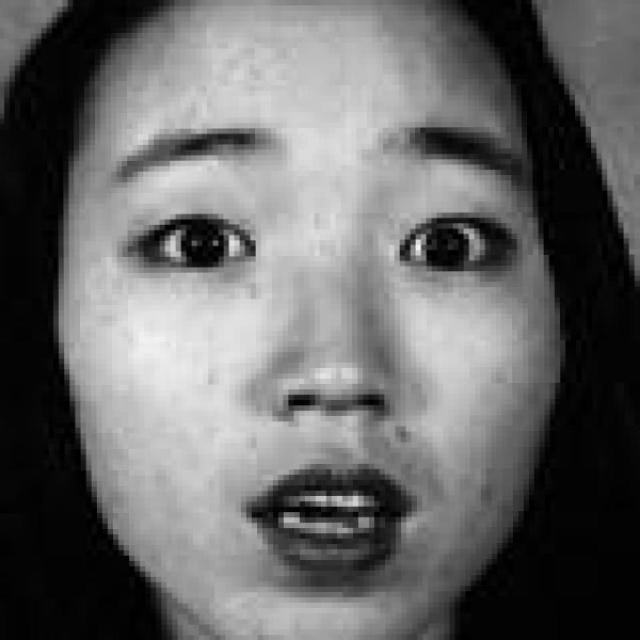surprise: (86, 35, 574, 633)
